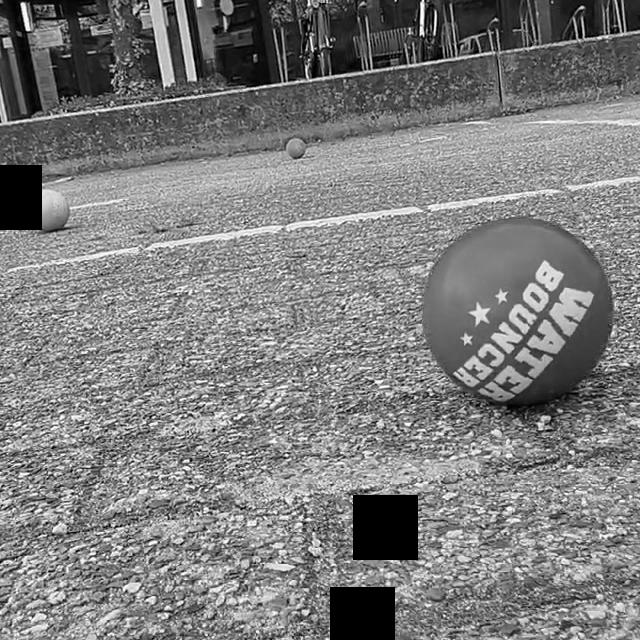ball: (23, 187, 70, 235), (284, 134, 306, 159)
